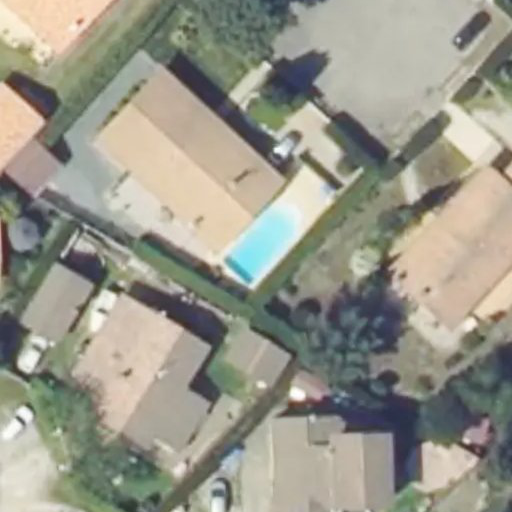pool: (224, 201, 304, 285)
